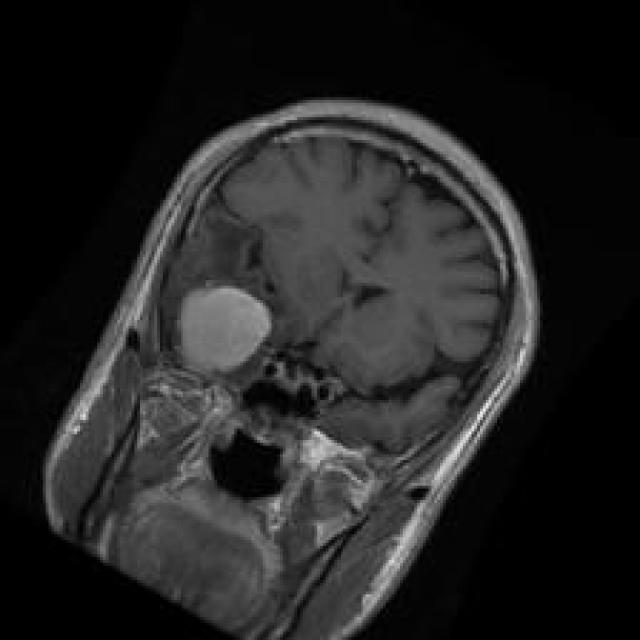meningioma_tumor: (166, 274, 282, 397)
